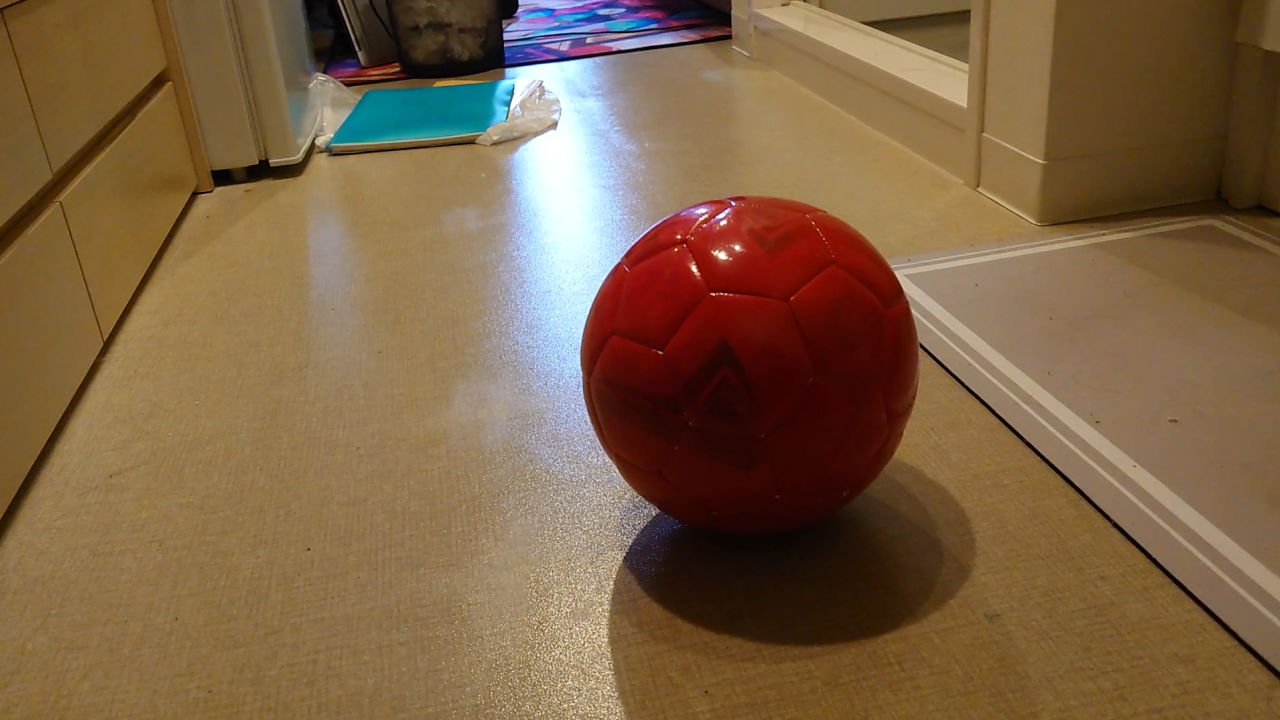red: (584, 199, 920, 531)
